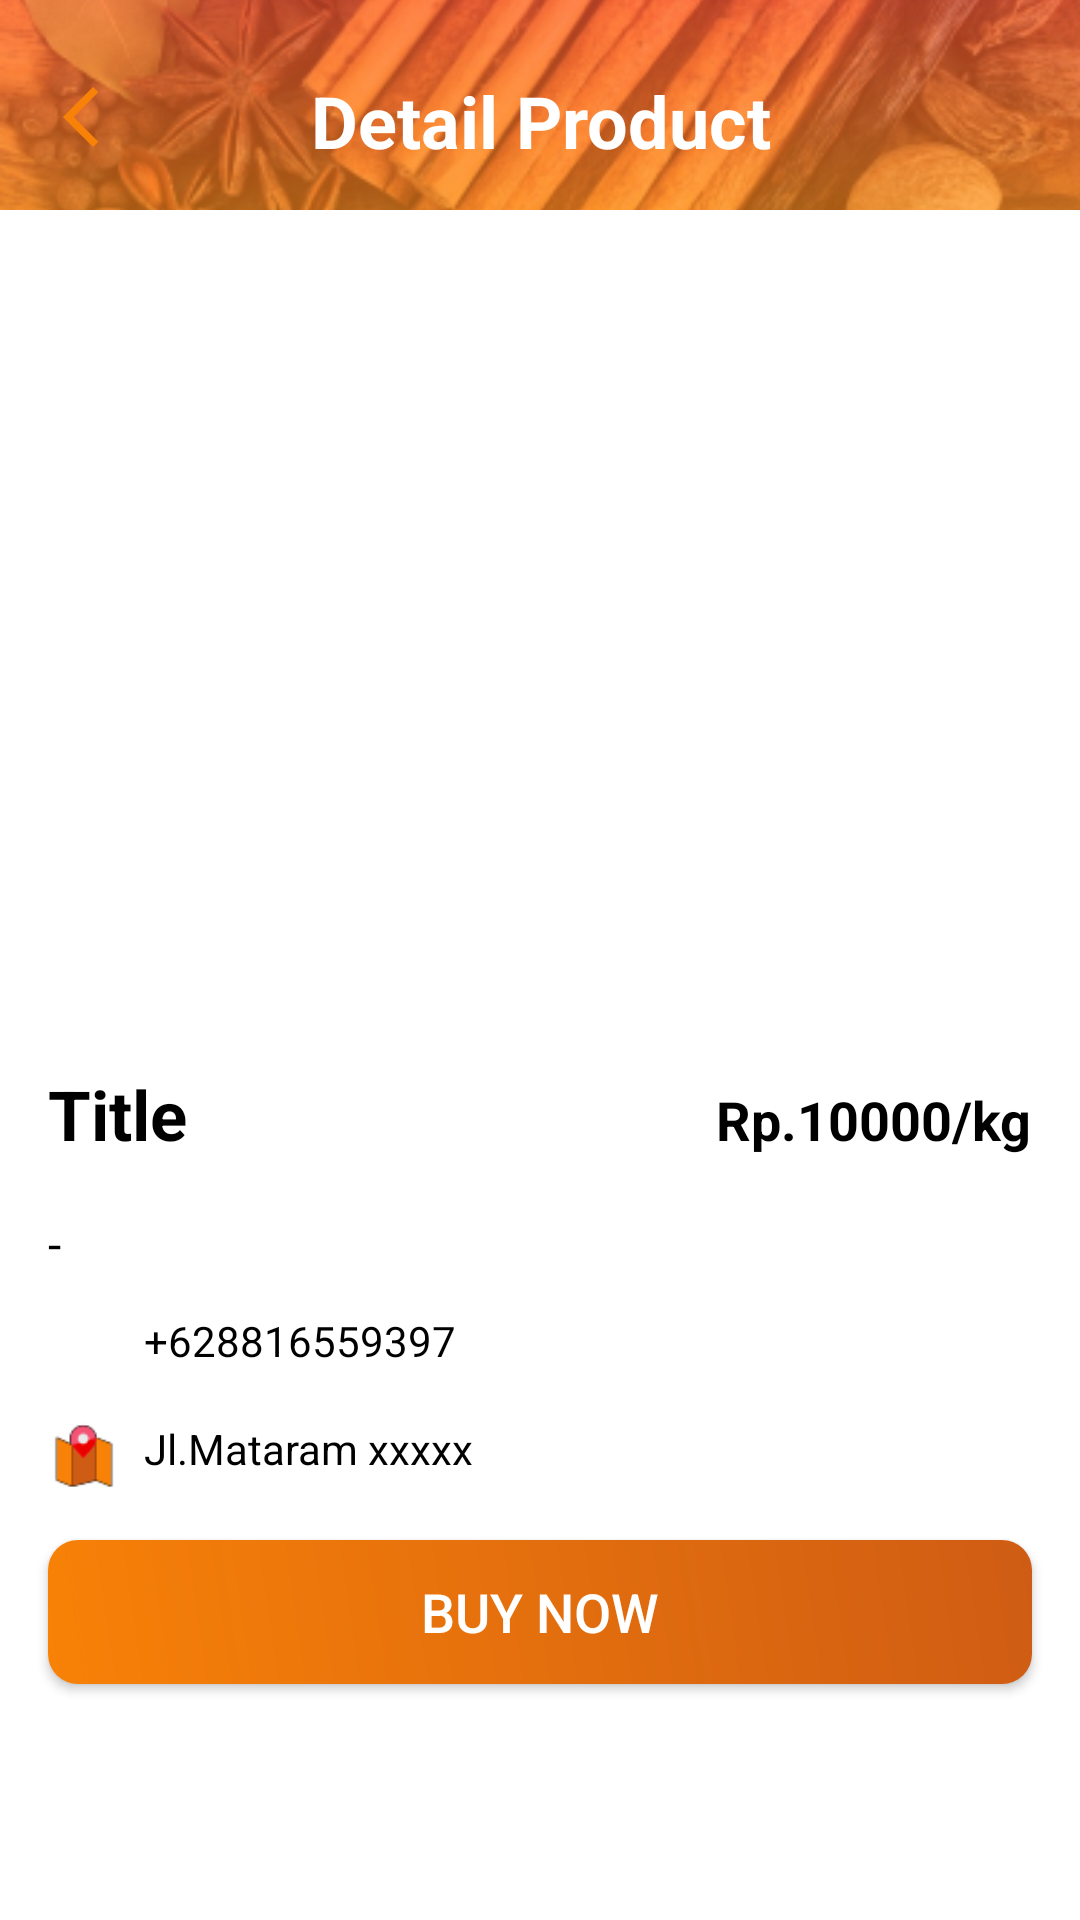

Where to tap for icons on this 1080 x 1920 app screen, as [x,y]:
back: [81,117]
maps: [84,1456]
